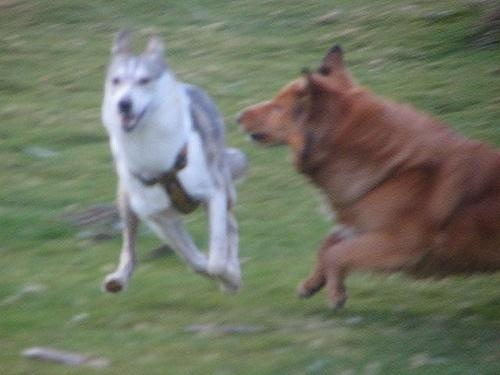dog: (235, 46, 500, 310), (100, 29, 248, 294)
